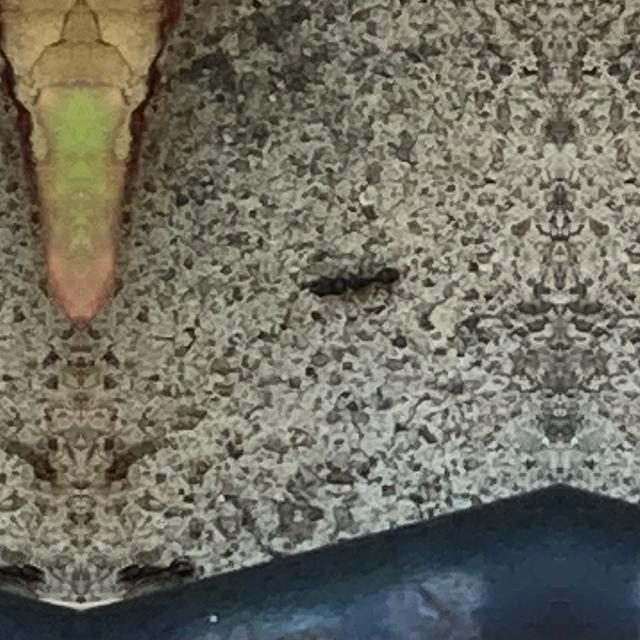Tetramorium: (294, 234, 410, 320), (100, 540, 206, 598), (0, 540, 60, 596)
